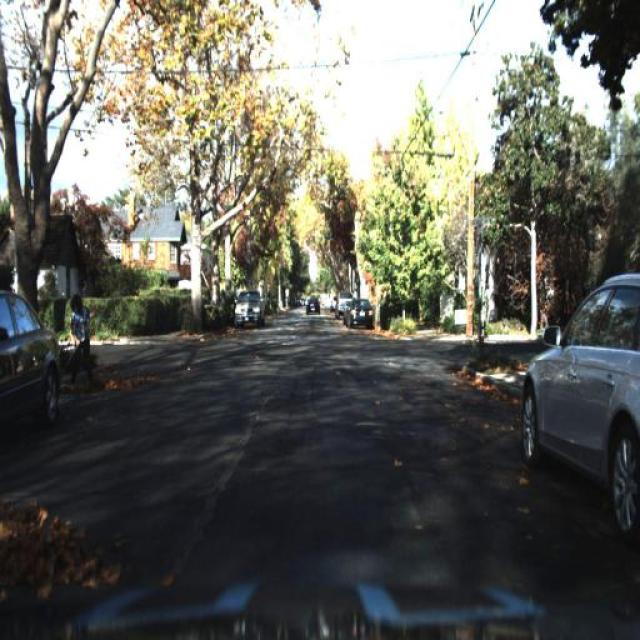car: (517, 269, 639, 550), (0, 287, 62, 473), (231, 286, 265, 336), (348, 296, 373, 330), (304, 293, 325, 319), (333, 290, 349, 318)
trafficLight: (54, 283, 97, 395)
